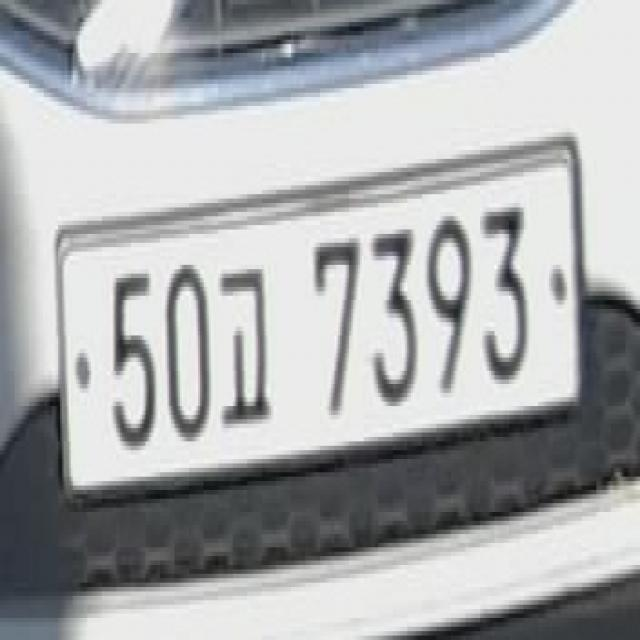0: (164, 256, 212, 452)
3: (368, 226, 418, 408), (481, 204, 525, 386)
5: (108, 264, 158, 448)
7: (310, 234, 364, 424)
9: (426, 204, 472, 400)
go: (217, 256, 275, 438)
license_plate: (53, 142, 587, 513)
